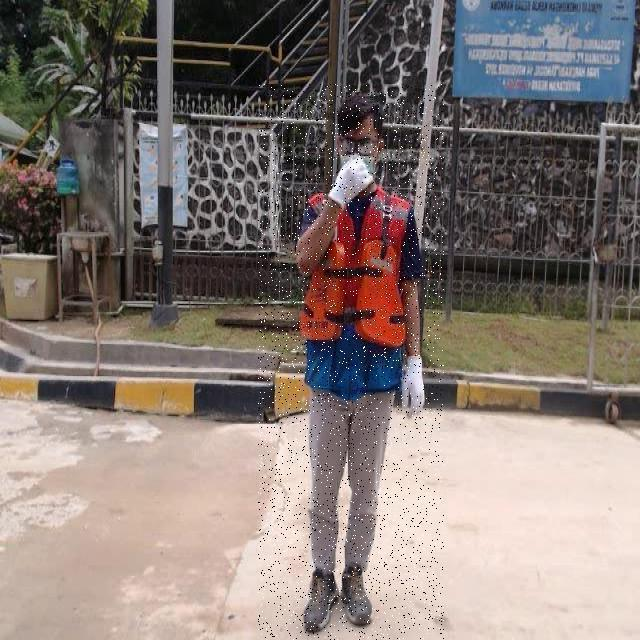gloves: (326, 153, 372, 210), (393, 353, 427, 422)
goggles: (336, 134, 380, 157)
safety_vest: (297, 185, 415, 396)
